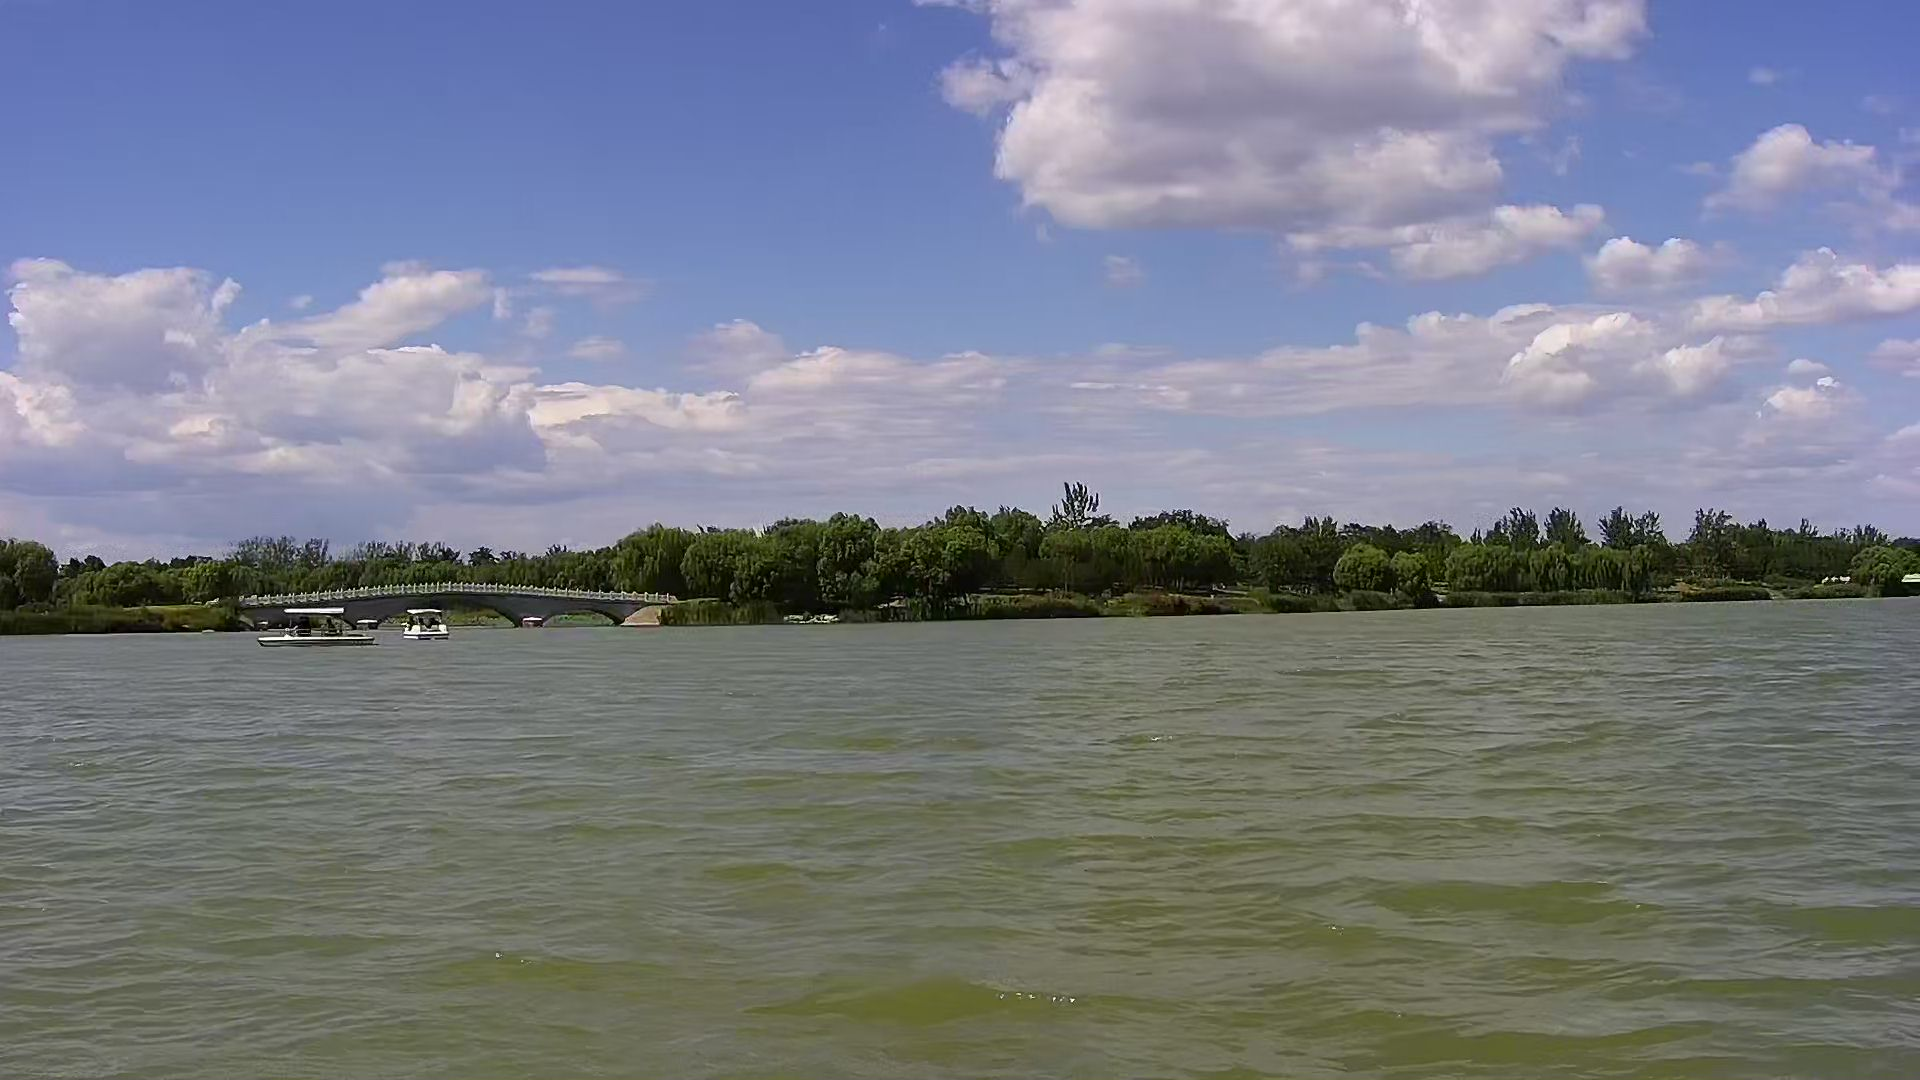boat: (257, 597, 377, 658), (404, 603, 447, 644)
bridge: (235, 584, 680, 634)
